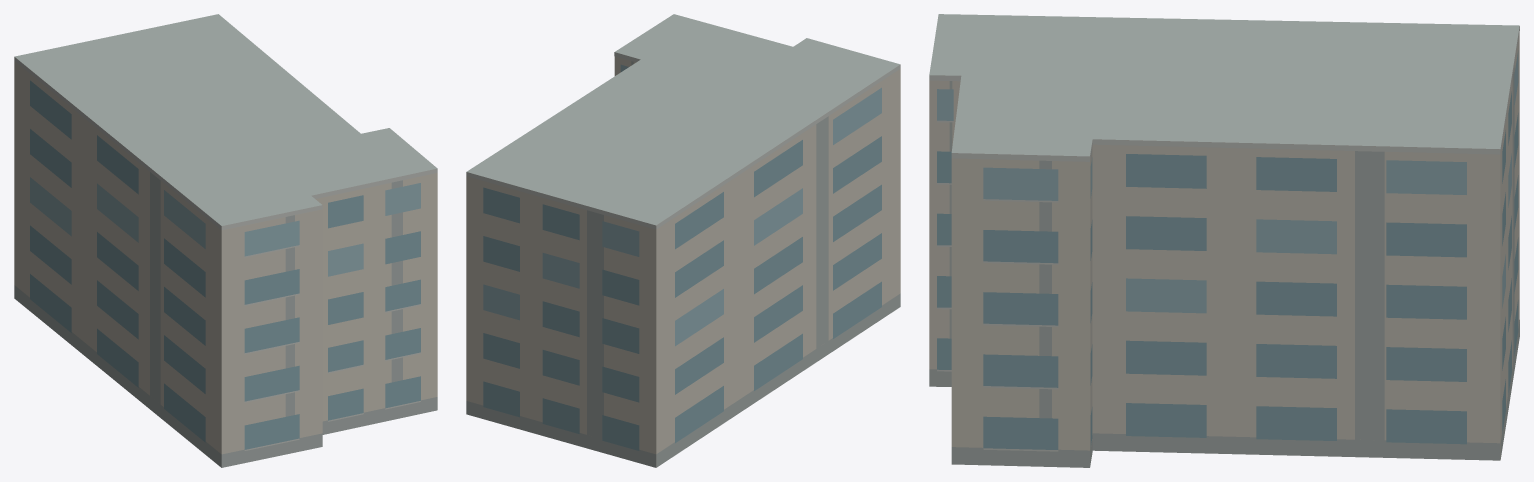
File: survey-upis-32764494.glb
The picture shows the model from 3 angles, left to right: view 1: azimuth 30°, elevation 25°; view 2: azimuth 150°, elevation 25°; view 3: azimuth 270°, elevation 25°; orthographic projection. The views are drawn at different scales.
Parts seen in each view (by area): view 1: survey-upis-32764494.tmp; view 2: survey-upis-32764494.tmp; view 3: survey-upis-32764494.tmp.
Boxes of the visible parts, box(x1,y1,x2,y2) form: survey-upis-32764494.tmp: box(14, 14, 437, 467); survey-upis-32764494.tmp: box(466, 14, 900, 467); survey-upis-32764494.tmp: box(929, 14, 1519, 467).
Size of the model in its own units: 13.64 by 13.9 by 23.9.
